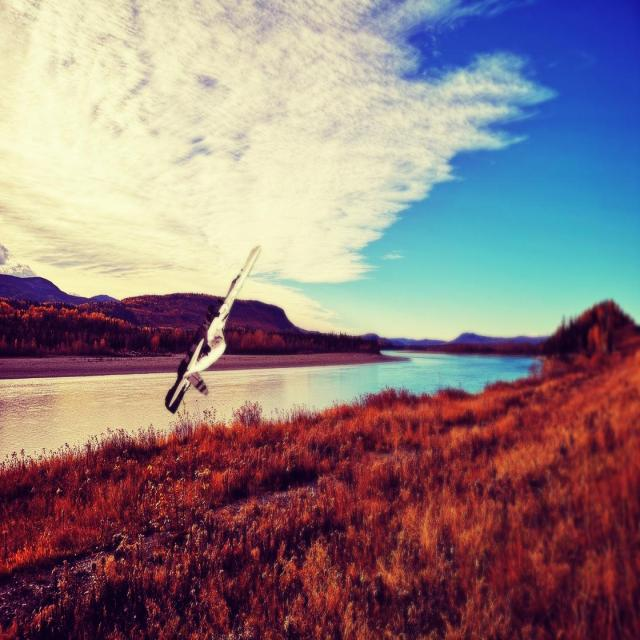airplane: (164, 244, 261, 414)
